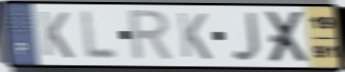J: (229, 10, 262, 63)
K: (38, 9, 76, 61), (176, 11, 214, 62)
L: (80, 8, 120, 62)
R: (127, 8, 177, 63)
X: (264, 10, 312, 65)
